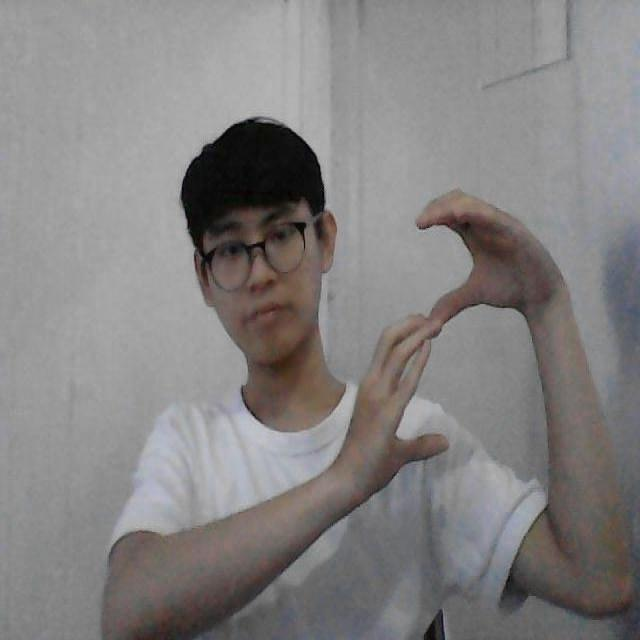S: (353, 184, 514, 460)
